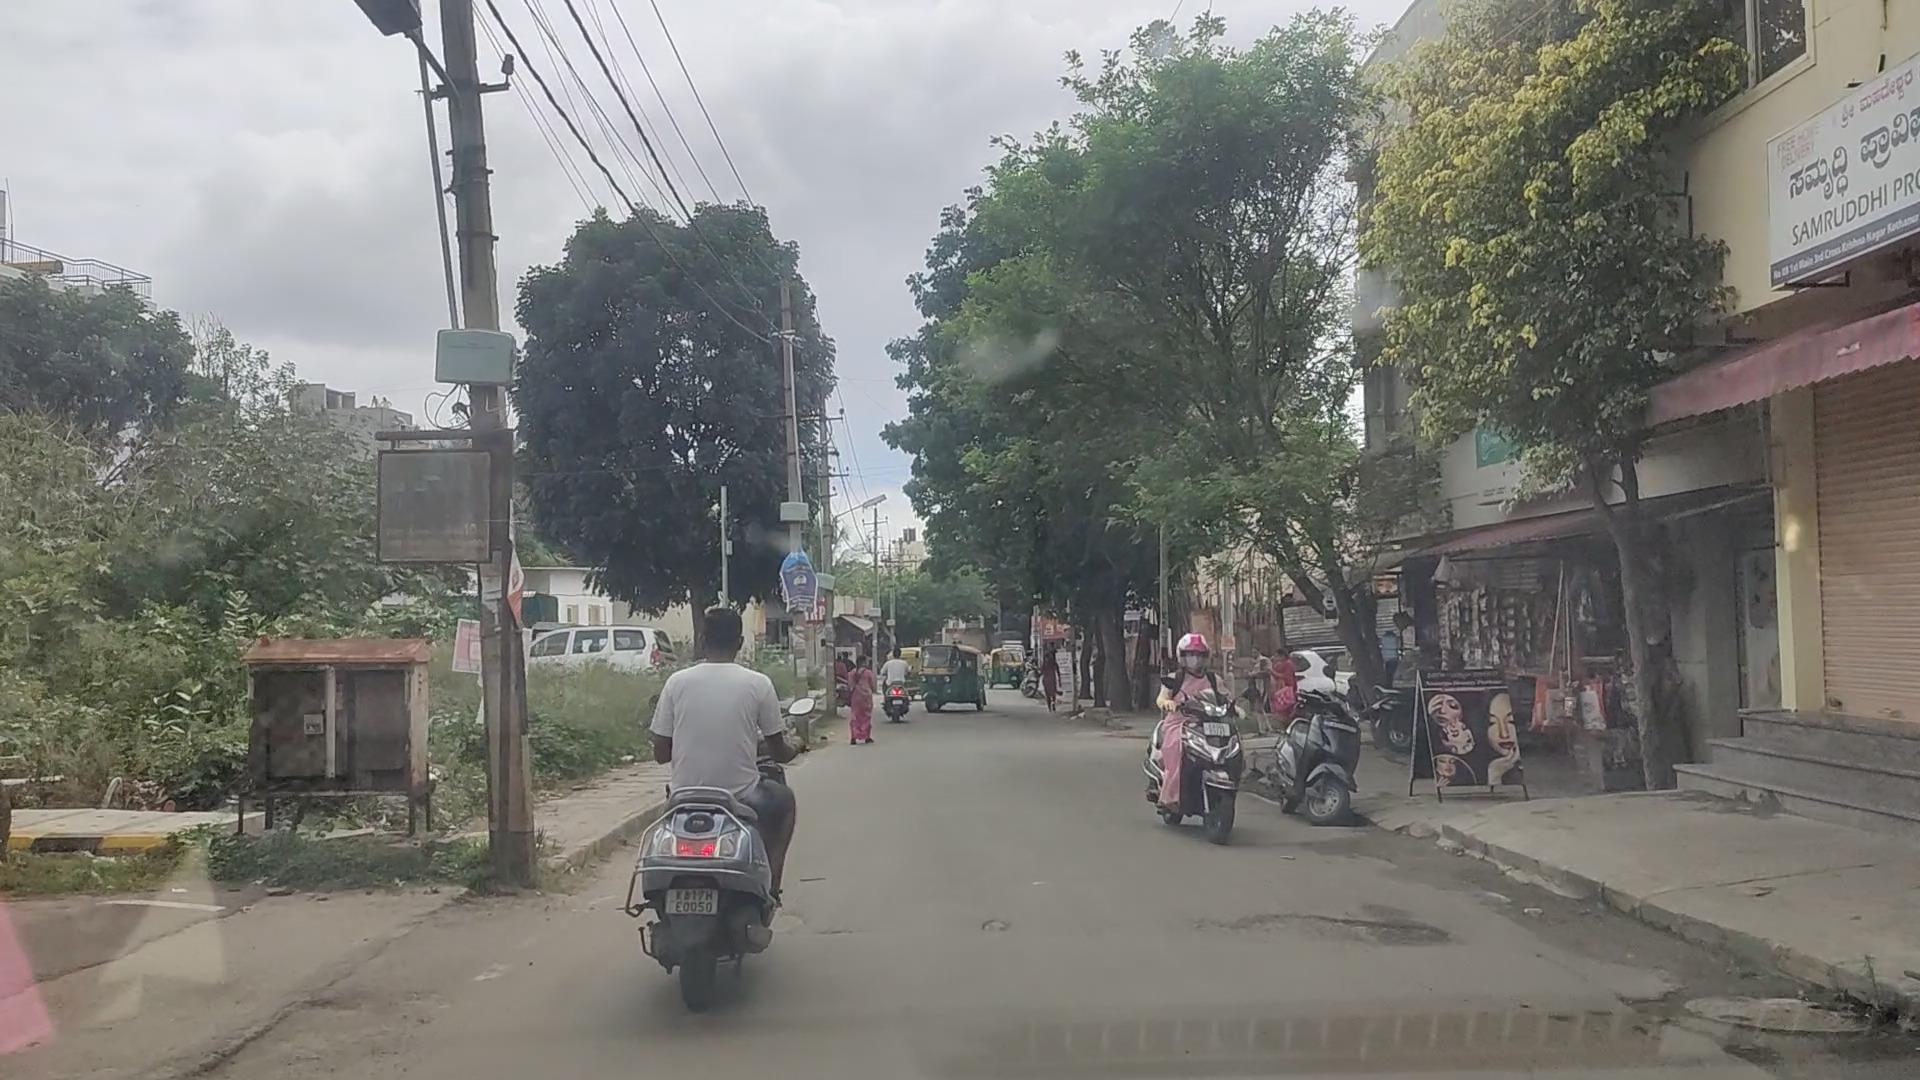LMV: (612, 605, 789, 993), (1151, 625, 1232, 841)
RoadDamages: (1184, 895, 1451, 973), (947, 898, 1031, 952)
